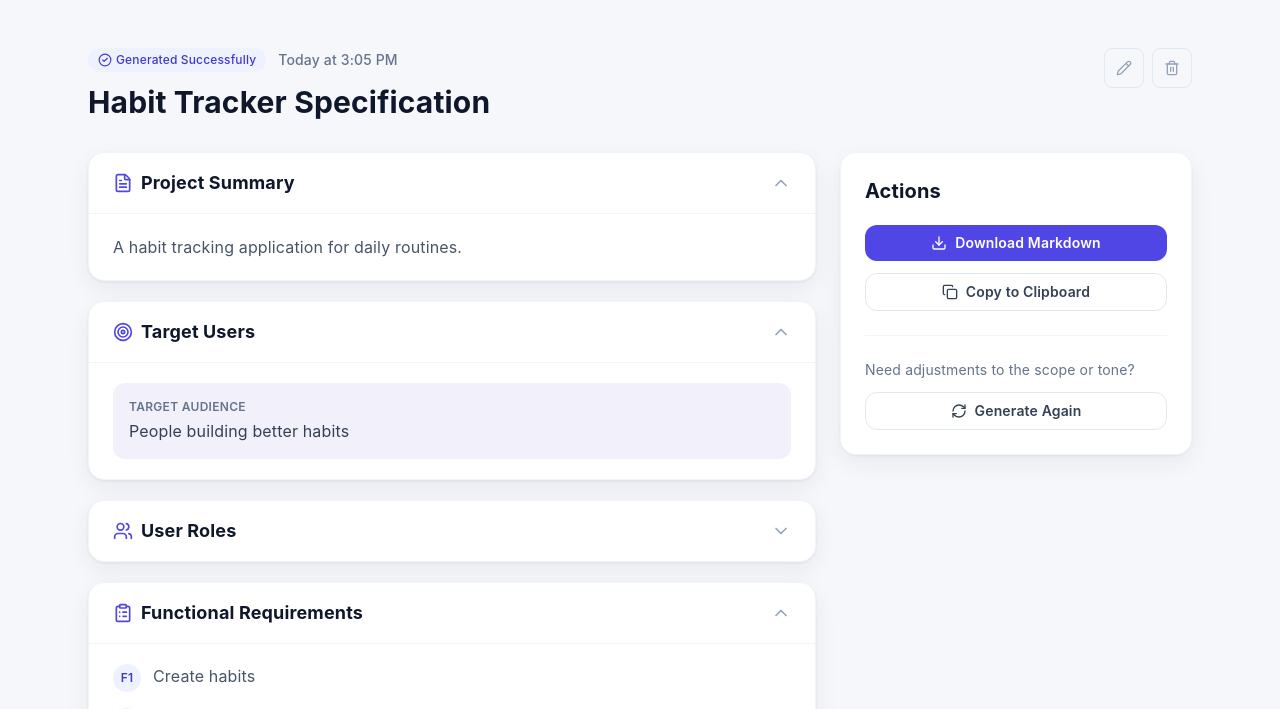
renaming from the result page › persists the new title when the run was saved to the account
Check: the heading "Habit Tracker Specification" is shown, box [88,84,490,120]
Click the button named "edit specification title" at (1124,68), box [1104,48,1144,88]
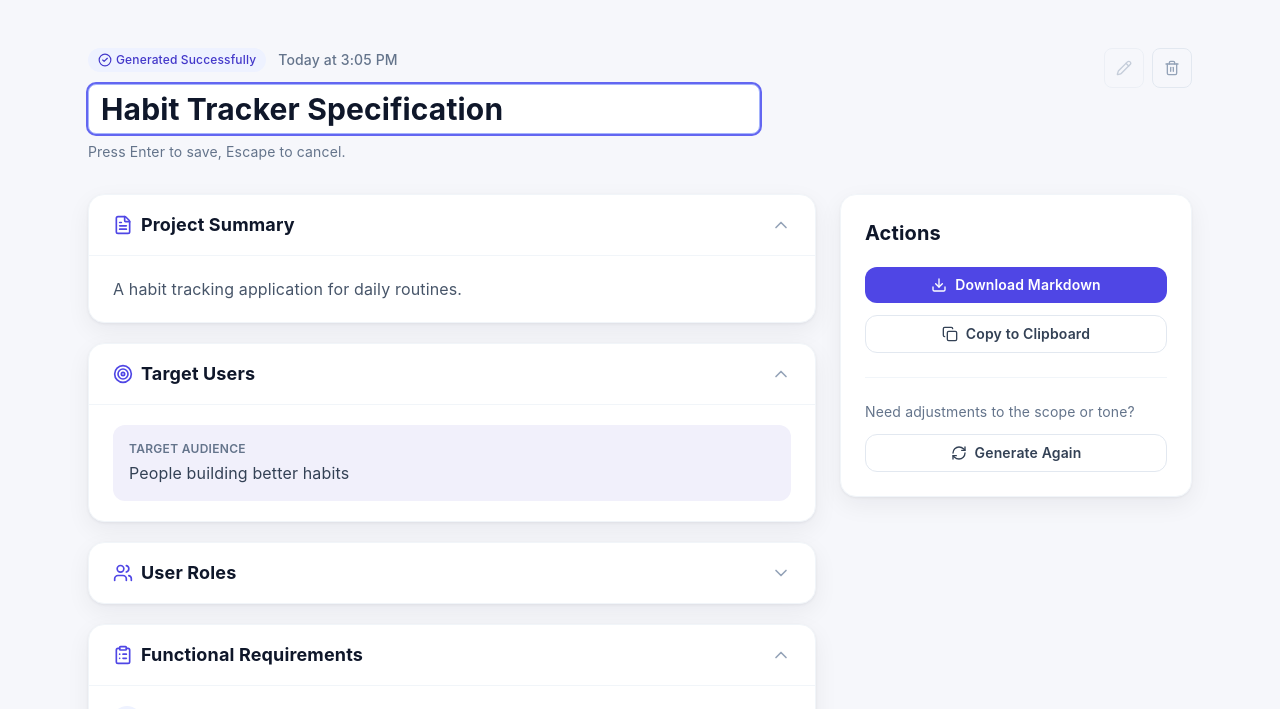
Replace the text in the field named "specification title" with "Result Page Rename" at (424,109), box [88,84,760,134]
Then press Enter
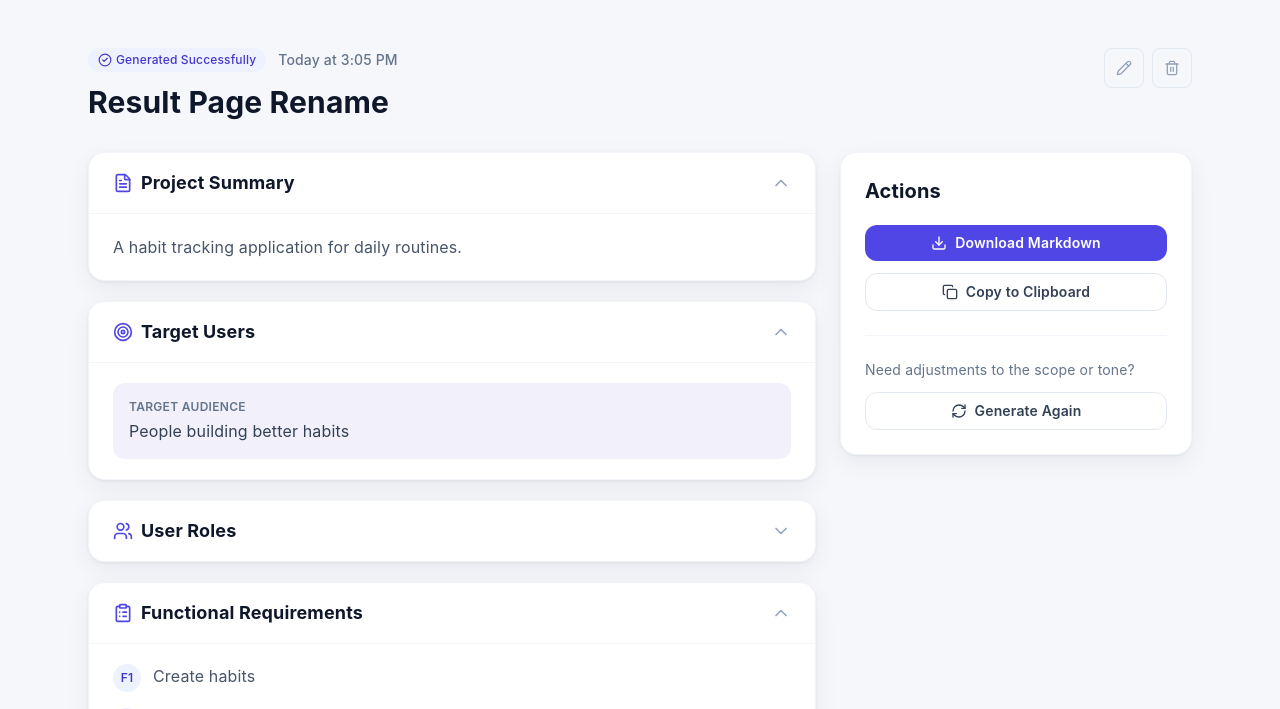
Check: the heading "Result Page Rename" is shown, box [88,84,389,120]
